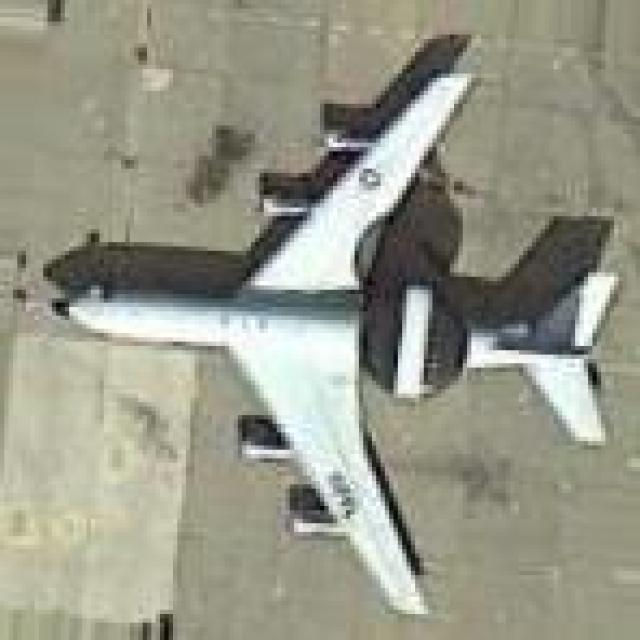E-3_TopDown: (39, 26, 618, 614)
